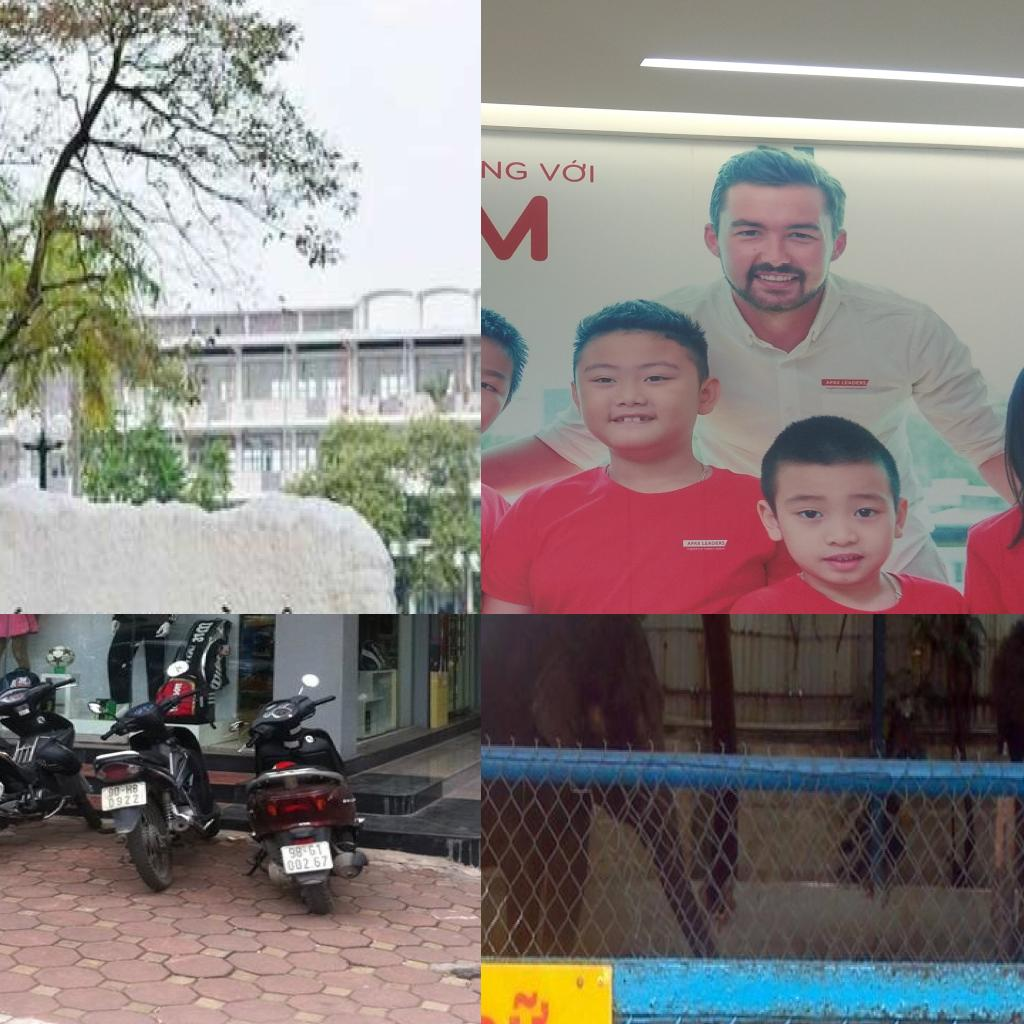text: (532, 156, 600, 188), (481, 152, 529, 188), (286, 854, 330, 872), (287, 842, 326, 860), (192, 602, 242, 614), (106, 794, 142, 808), (109, 783, 140, 798), (192, 622, 214, 642), (209, 669, 224, 692), (841, 380, 869, 386), (701, 540, 727, 546), (686, 540, 702, 546), (824, 380, 841, 385)
